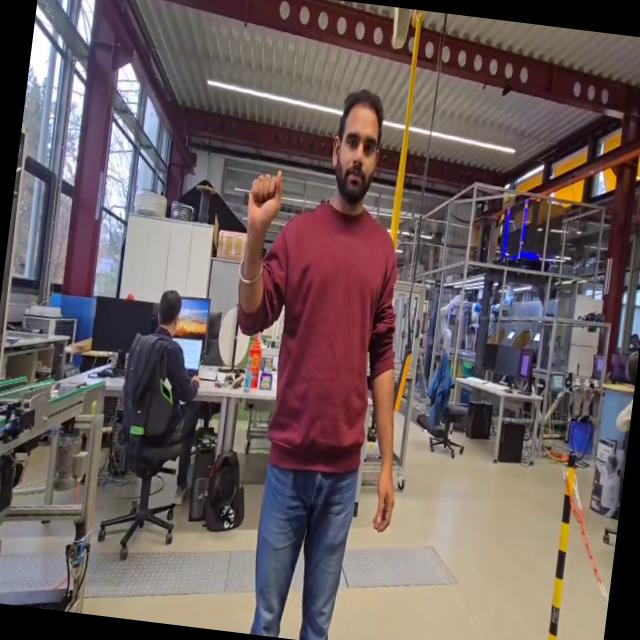closed_fist: (240, 160, 290, 242)
